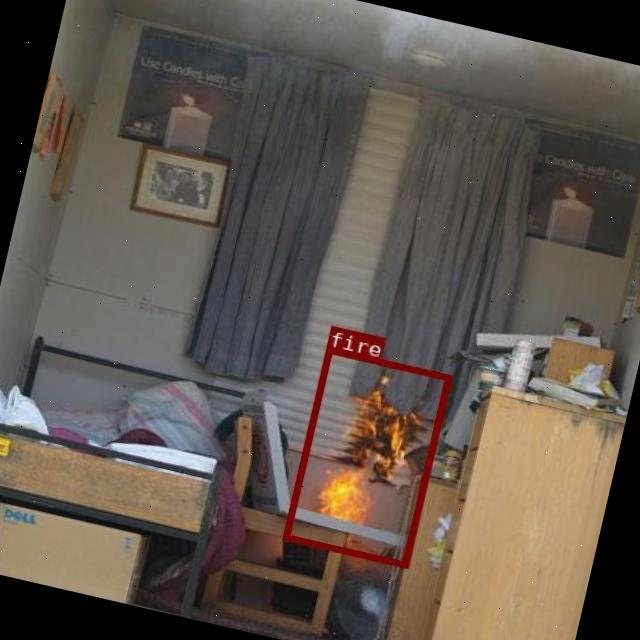fire: (282, 345, 451, 567)
